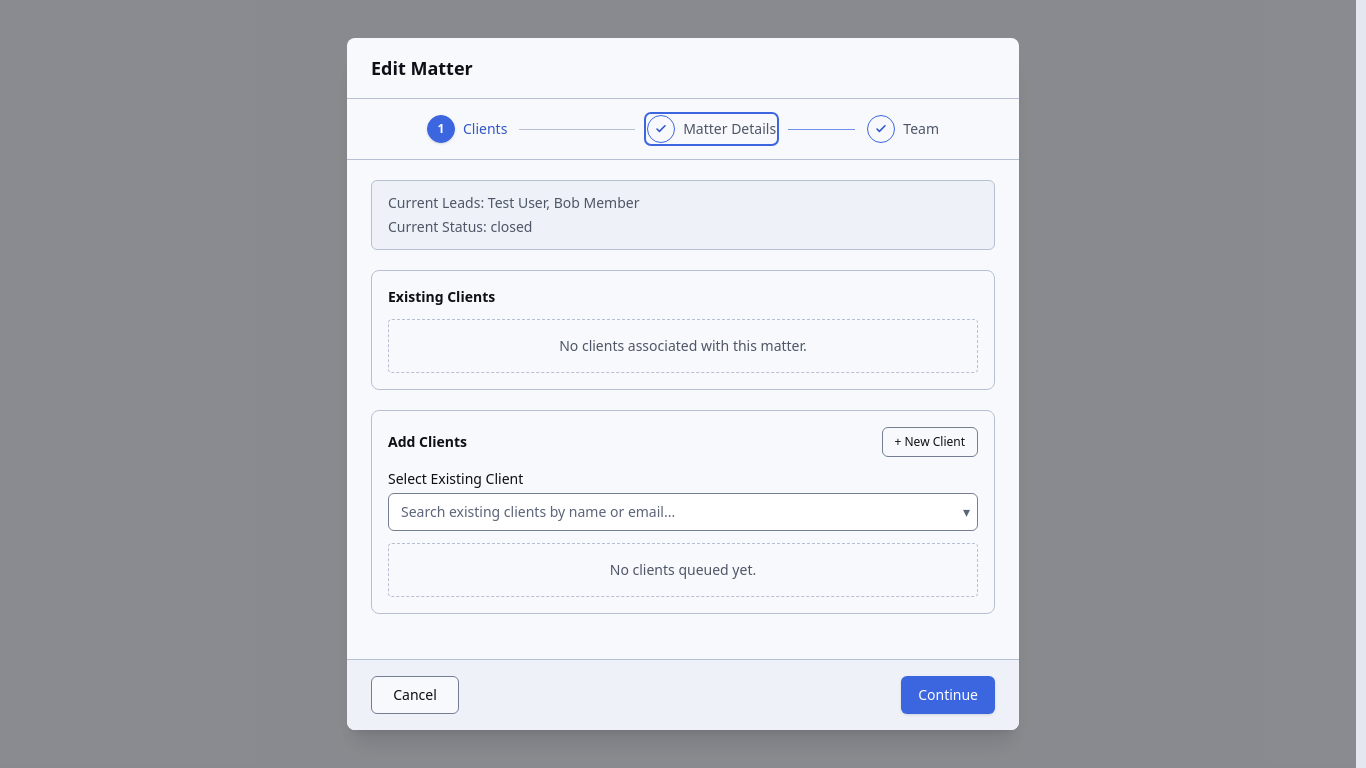
Test case: queued new-client validation › blocks save when a queued client has no name
Click the button "+ New Client" at [930, 442], box [882, 427, 978, 457]
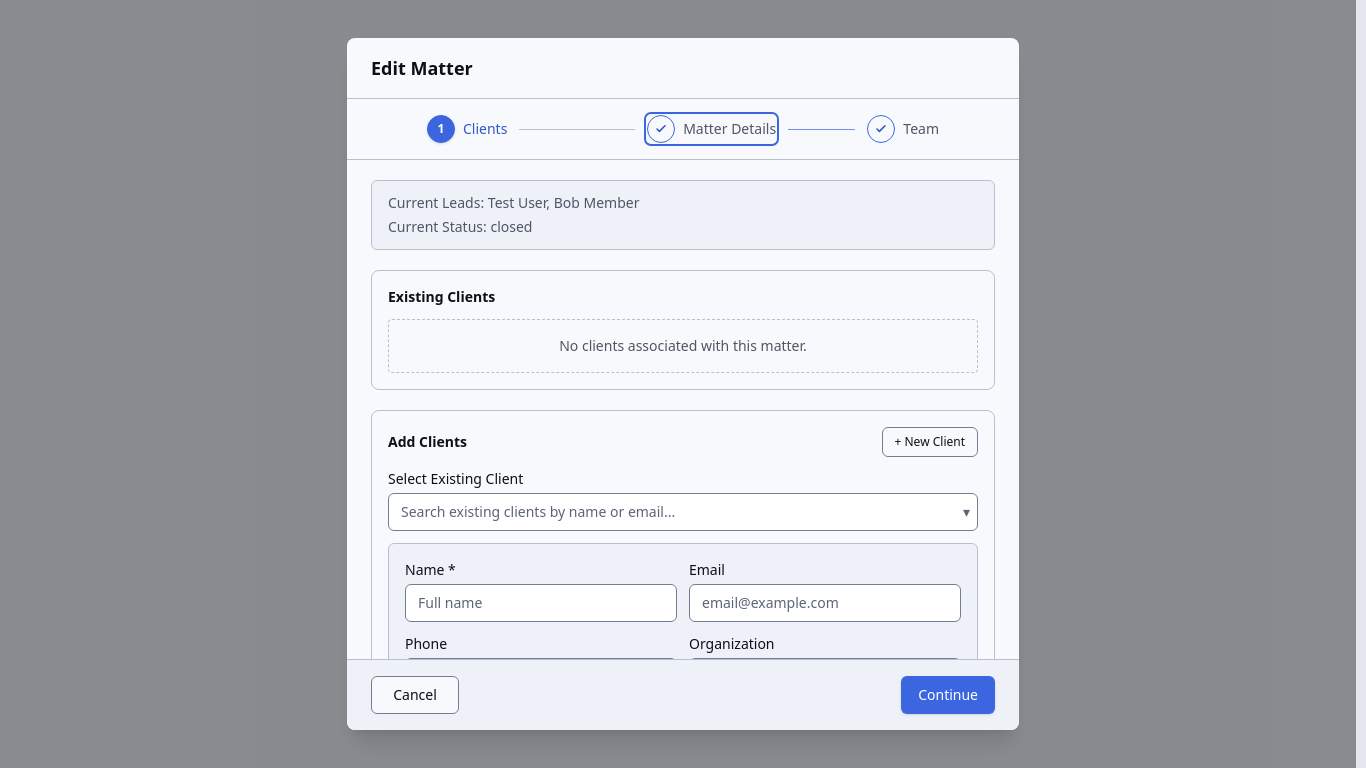
Click the button with aria-label "Team," at [903, 129], box [867, 115, 939, 143]
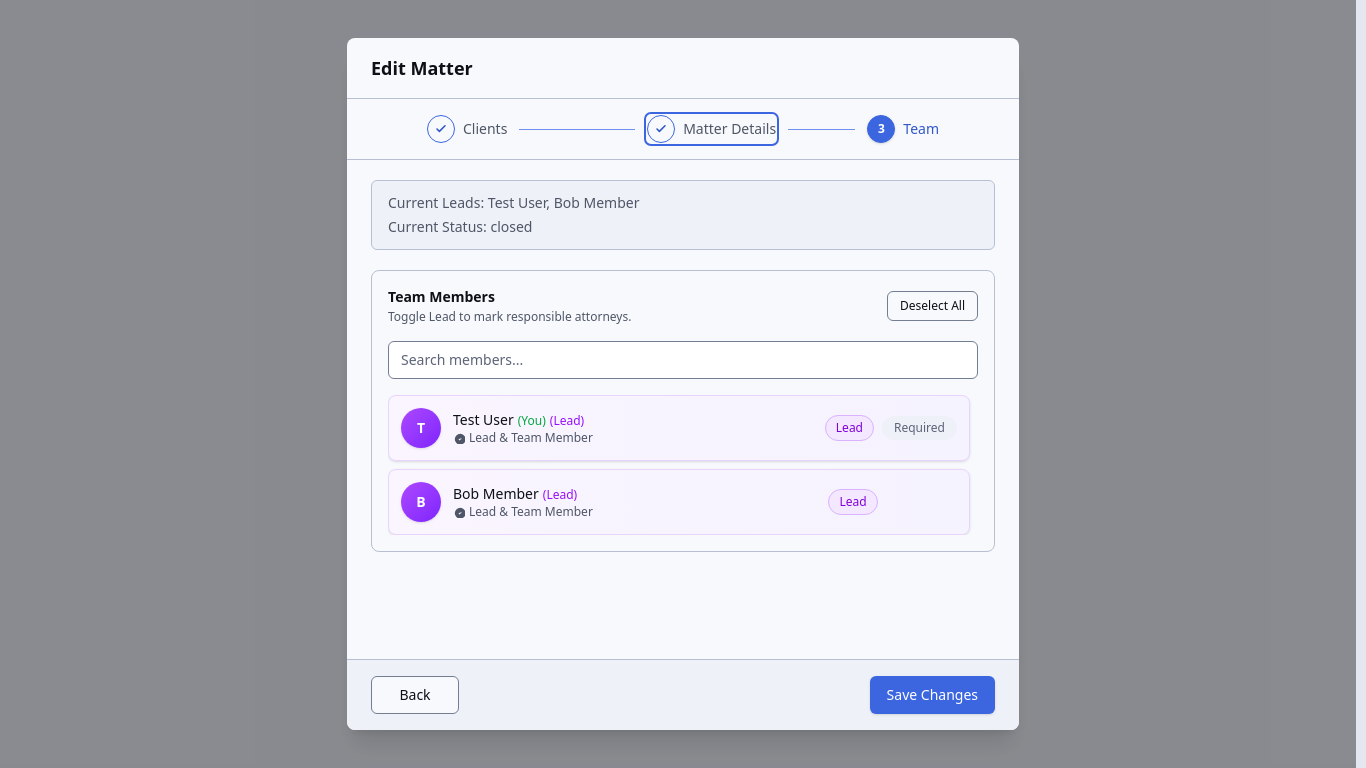
Click the button "Save Changes" at [932, 695], box [870, 676, 995, 714]
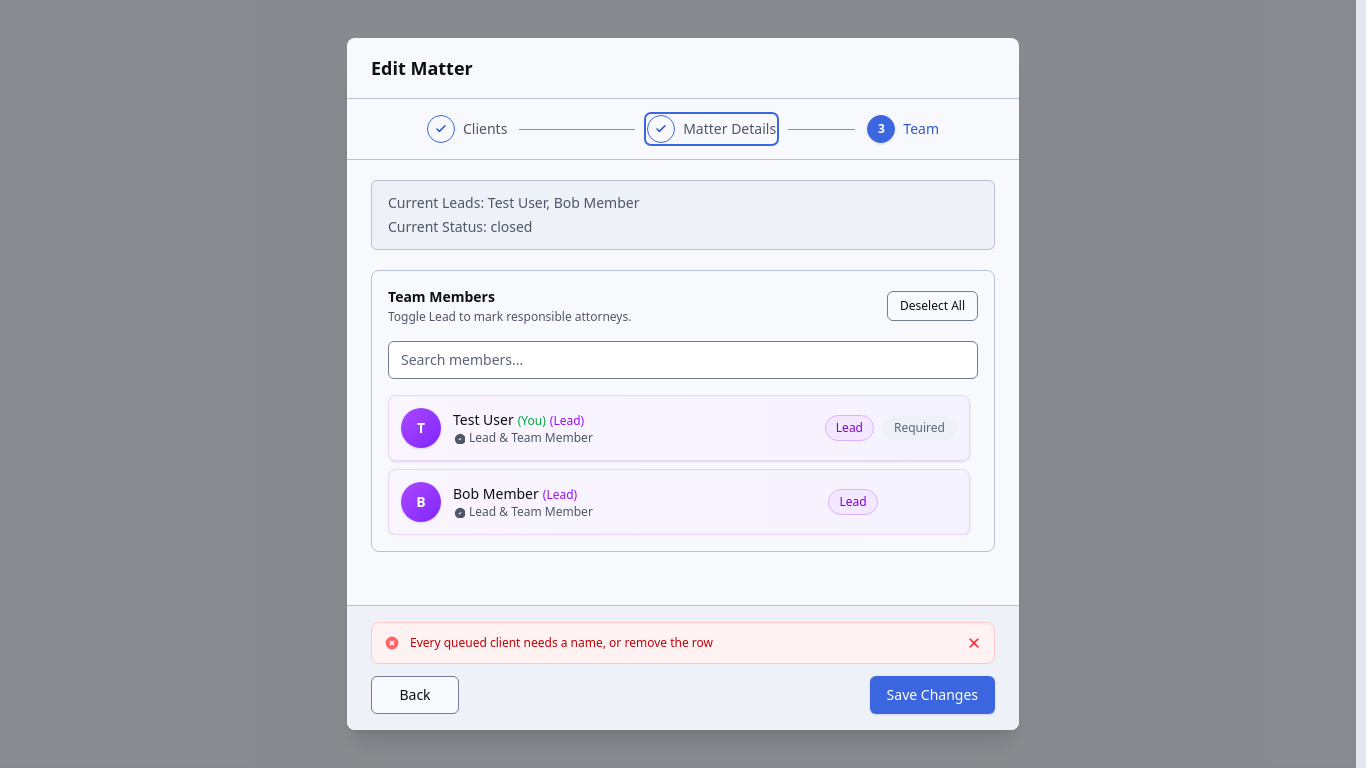
Expected: the text "Every queued client needs a name, or remove the row" is shown, [410, 634, 713, 651]
